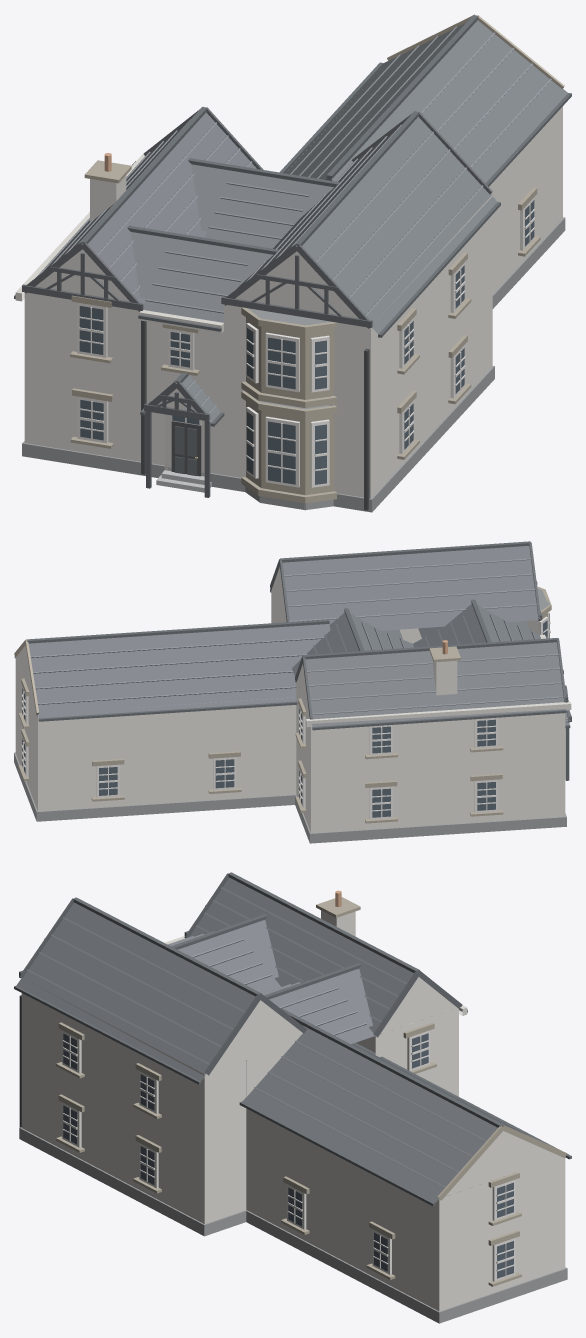
3 views of the same model, one above another, from view 1: azimuth 30°, elevation 25°; view 2: azimuth 150°, elevation 25°; view 3: azimuth 270°, elevation 25° (orthographic). The views are drawn at different scales.
Parts seen in each view (by area): view 1: slate, harl, doorcase, band_dark, slate_lt, frame, slate_dk, plinth, string, pipe, window_glass_006, window_glass_009 (+8 smaller); view 2: slate, harl, slate_lt, slate_dk, plinth, frame, doorcase, string, band_dark, chim_render, window_glass_020, window_glass_013 (+4 smaller); view 3: harl, slate, slate_dk, plinth, slate_lt, doorcase, frame, band_dark.
Boxes of the visible parts, x1=… form: slate: x1=43, y1=20, x2=567, y2=422; harl: x1=24, y1=89, x2=562, y2=498; doorcase: x1=70, y1=14, x2=564, y2=503; band_dark: x1=22, y1=106, x2=492, y2=497; slate_lt: x1=36, y1=26, x2=551, y2=413; frame: x1=77, y1=197, x2=534, y2=487; slate_dk: x1=14, y1=15, x2=571, y2=426; plinth: x1=22, y1=217, x2=565, y2=512; string: x1=15, y1=152, x2=223, y2=476; pipe: x1=141, y1=320, x2=369, y2=510; window_glass_006: x1=268, y1=421, x2=295, y2=484; window_glass_009: x1=268, y1=337, x2=295, y2=389; slate: x1=28, y1=546, x2=569, y2=726; harl: x1=15, y1=567, x2=565, y2=833; slate_lt: x1=30, y1=558, x2=567, y2=719; slate_dk: x1=15, y1=541, x2=570, y2=730; plinth: x1=14, y1=752, x2=566, y2=843; frame: x1=21, y1=612, x2=550, y2=819; doorcase: x1=14, y1=586, x2=551, y2=823; string: x1=306, y1=634, x2=571, y2=727; band_dark: x1=270, y1=541, x2=571, y2=780; chim_render: x1=433, y1=660, x2=457, y2=695; window_glass_020: x1=215, y1=759, x2=234, y2=788; window_glass_013: x1=477, y1=782, x2=495, y2=810; harl: x1=21, y1=977, x2=565, y2=1311; slate: x1=16, y1=877, x2=567, y2=1202; slate_dk: x1=14, y1=872, x2=571, y2=1206; plinth: x1=19, y1=1127, x2=567, y2=1323; slate_lt: x1=27, y1=887, x2=532, y2=1188; doorcase: x1=56, y1=897, x2=567, y2=1286; frame: x1=62, y1=1030, x2=515, y2=1281; band_dark: x1=19, y1=872, x2=462, y2=1075.
Bounding box in the file's own units: 23.84 × 8.98 × 20.39.
